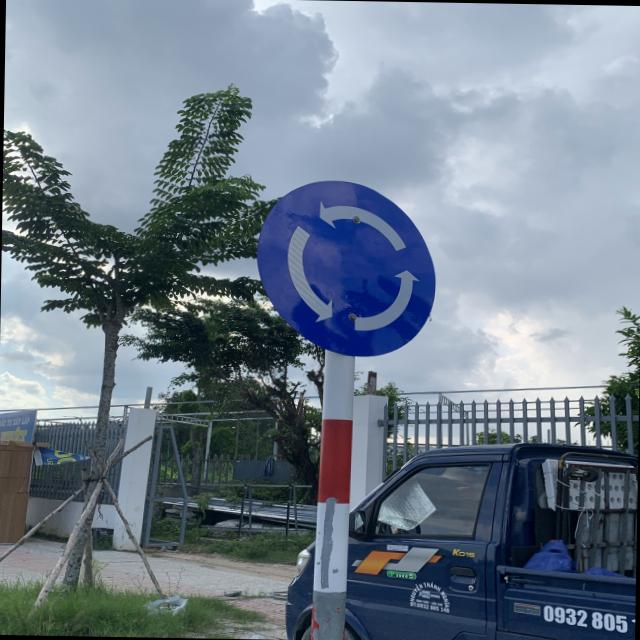Xe_Bus: (255, 176, 438, 360)
